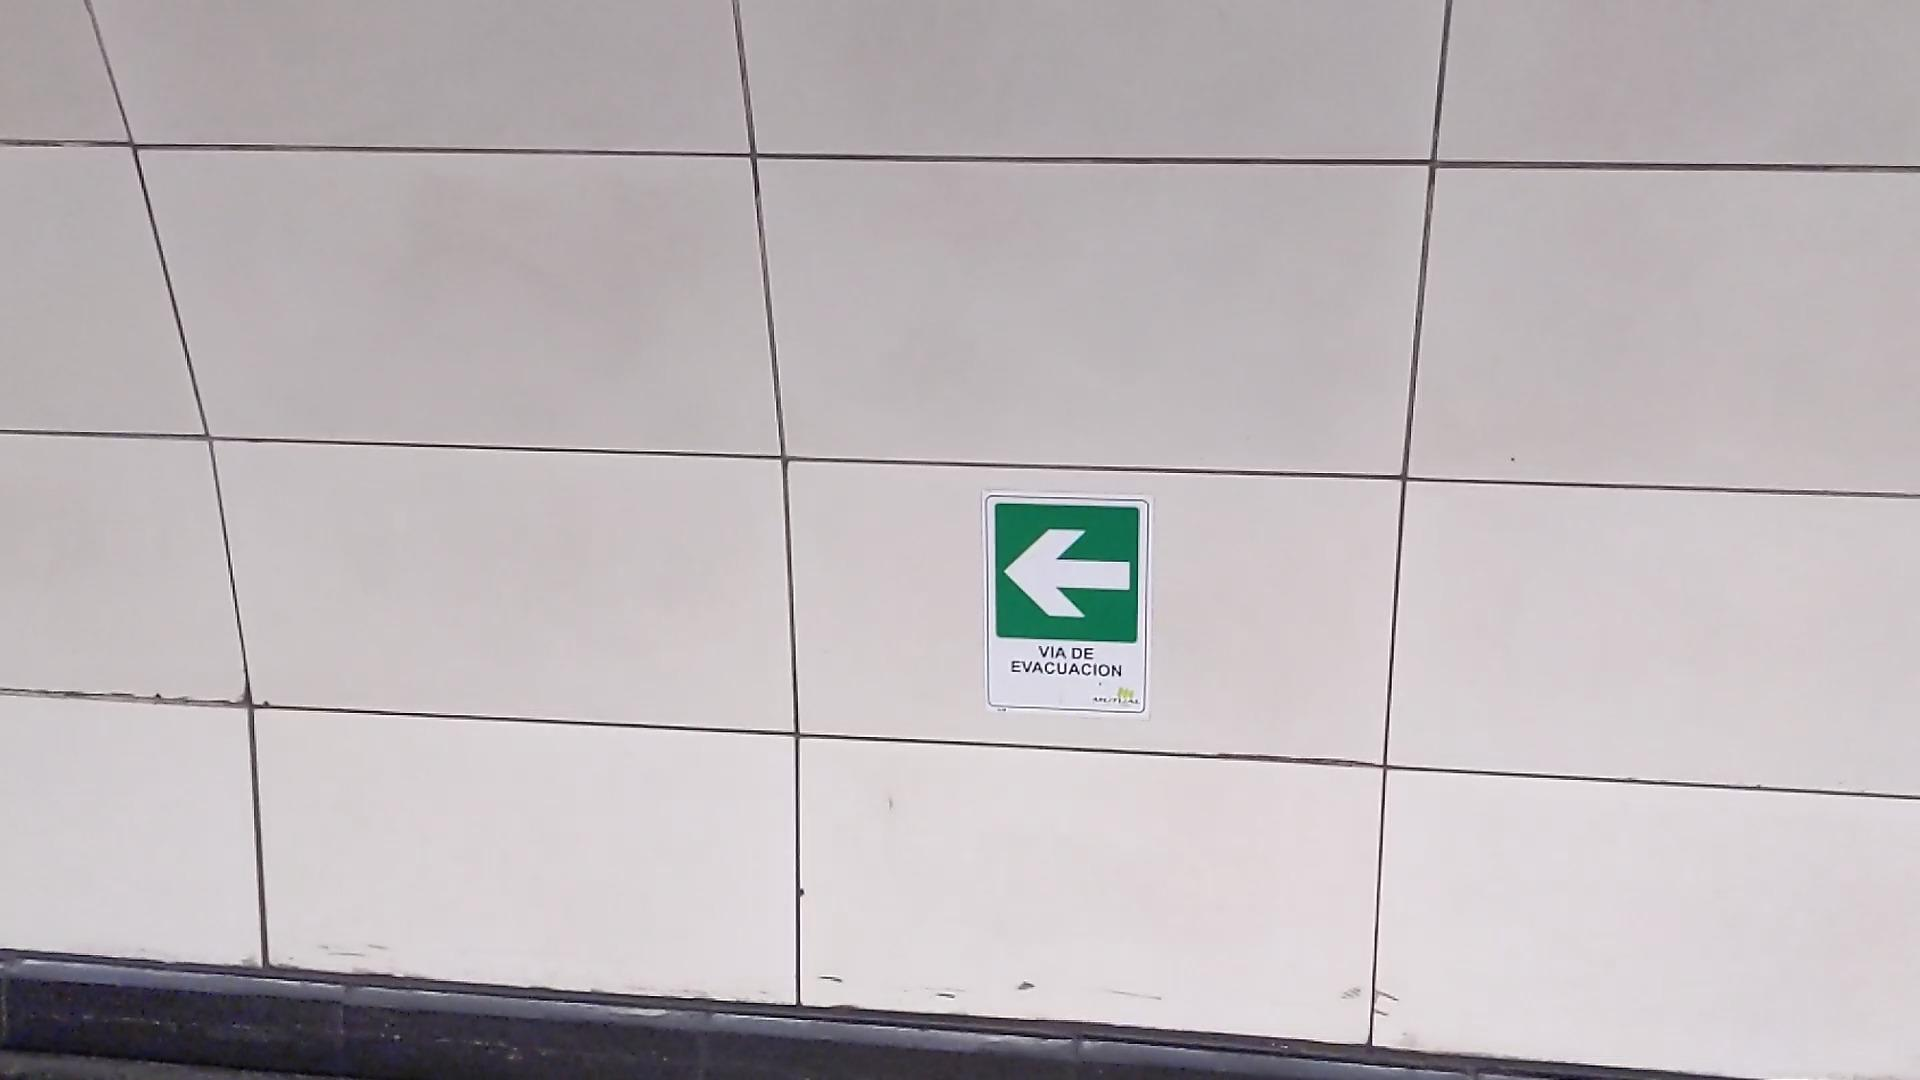emergency left arrow: (1001, 525, 1134, 621)
